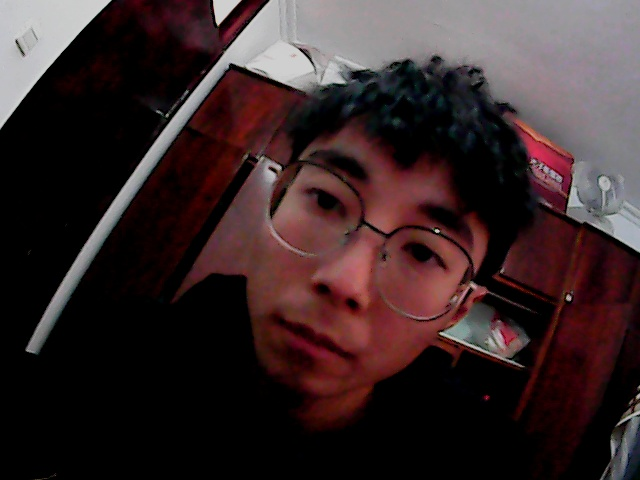face: (245, 54, 530, 402)
